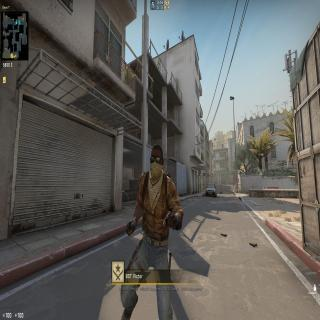T-Head: (148, 142, 166, 183)
